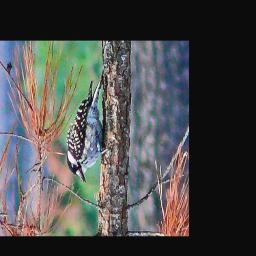Woodpecker: (59, 67, 118, 188)
